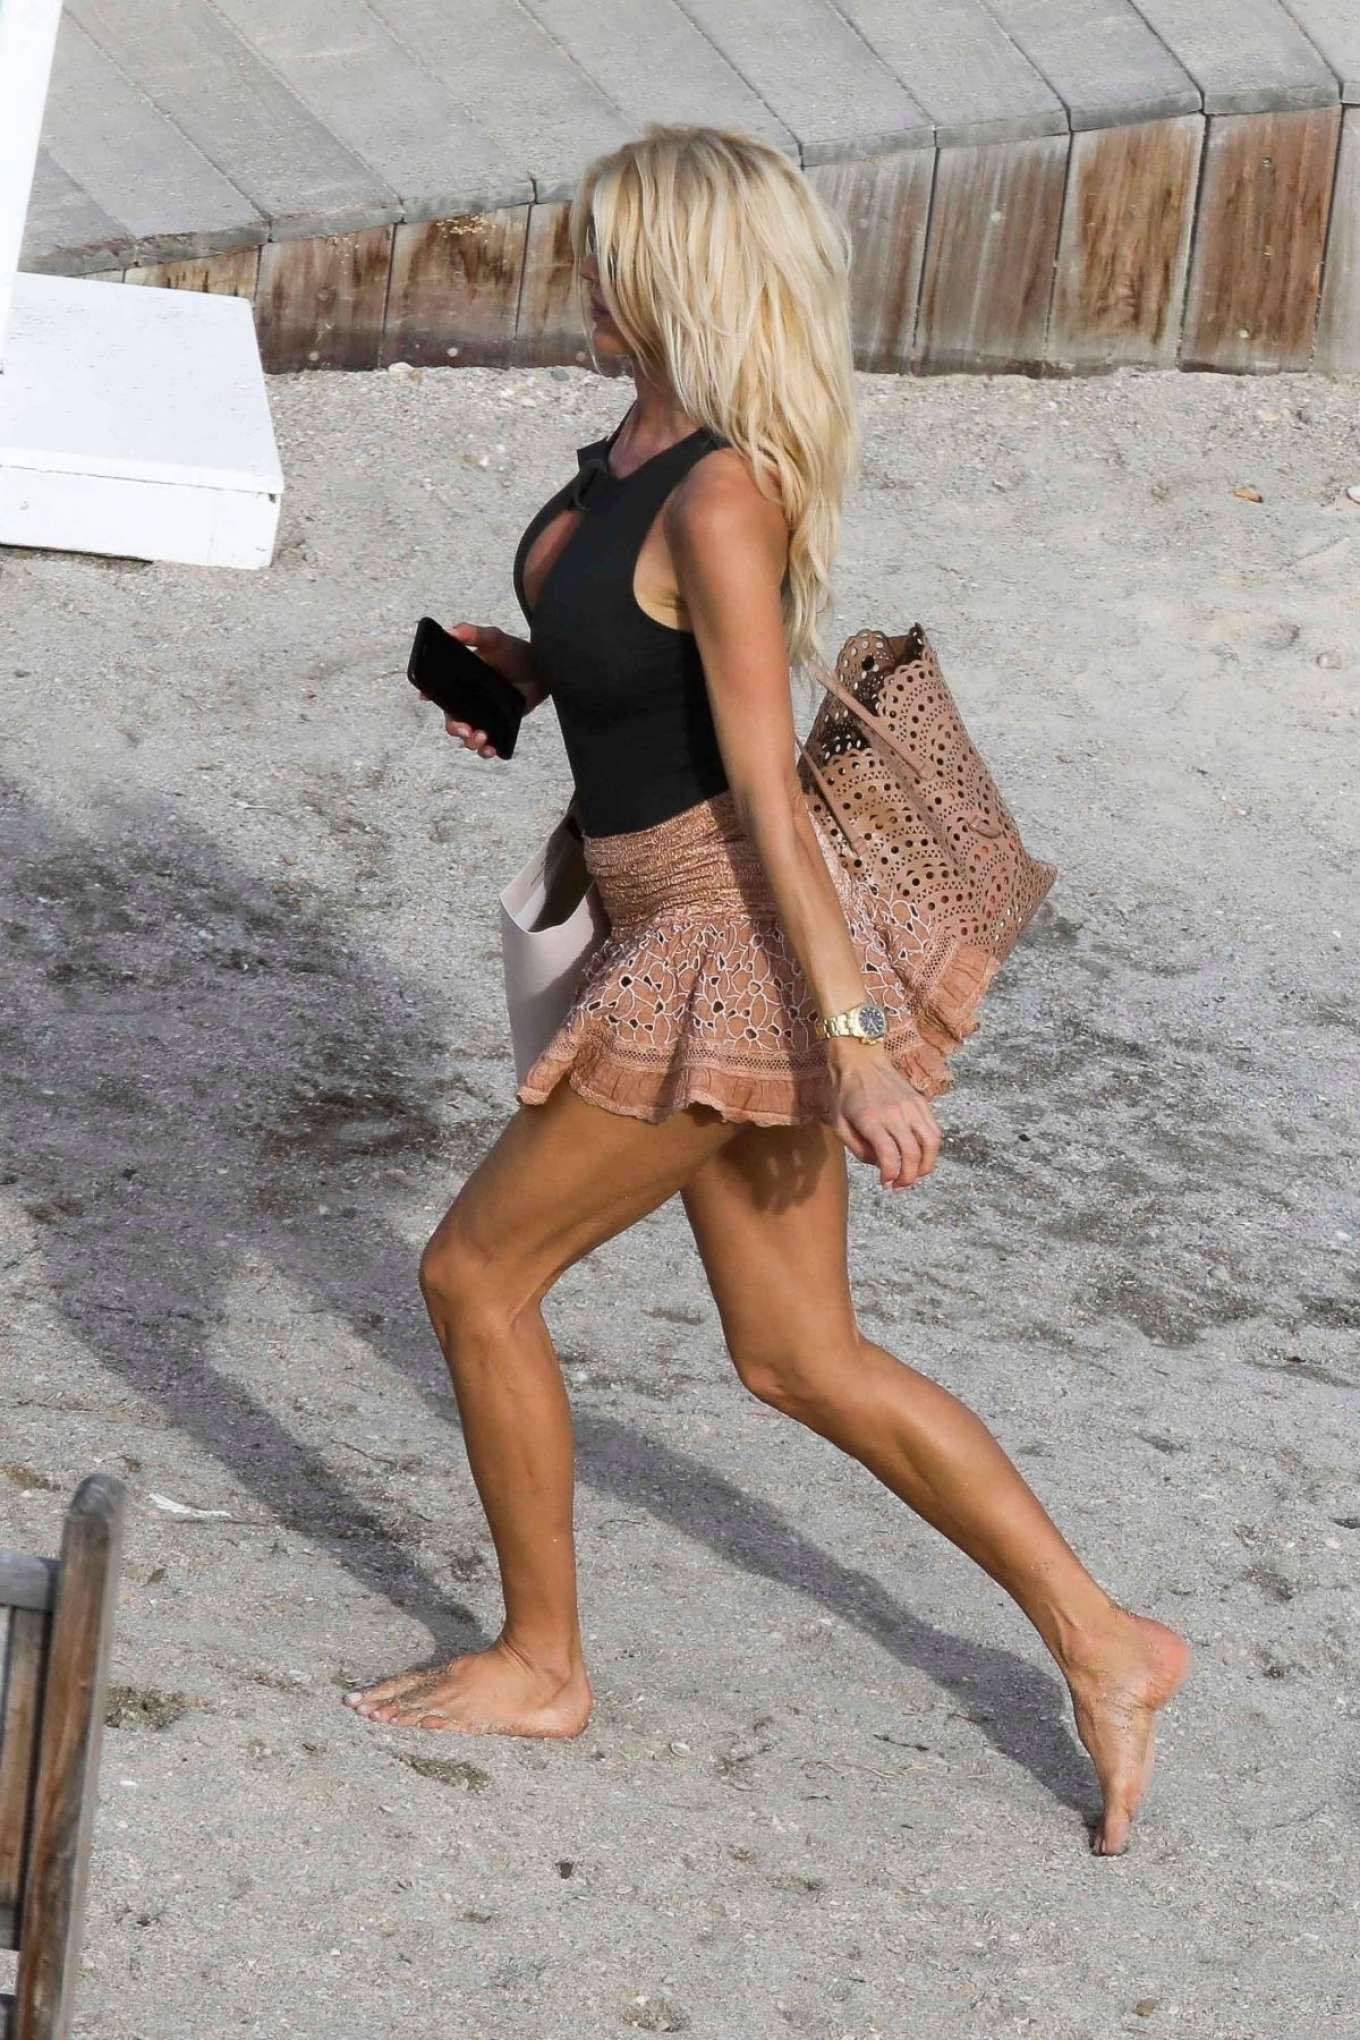Person: (268, 93, 1268, 1910)
